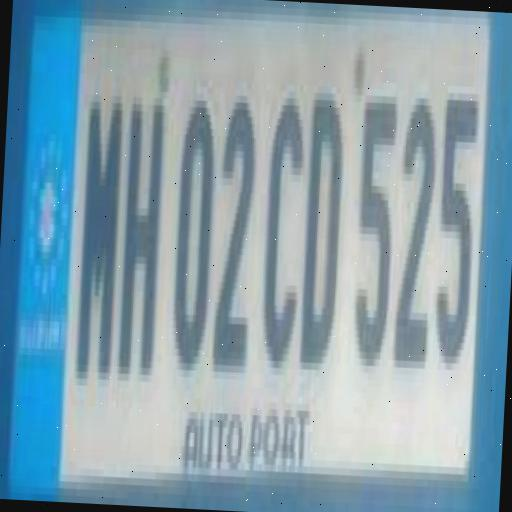number plate: (2, 0, 512, 511)
